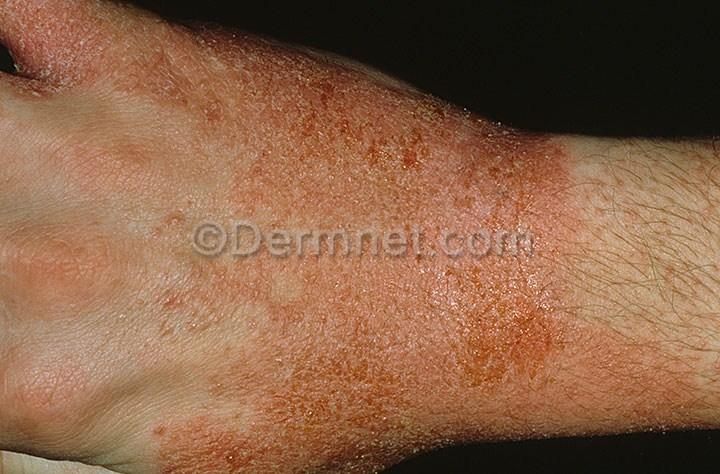Eczema: (144, 254, 592, 474), (351, 76, 561, 204), (213, 157, 559, 221), (181, 23, 345, 151), (0, 0, 176, 119)
